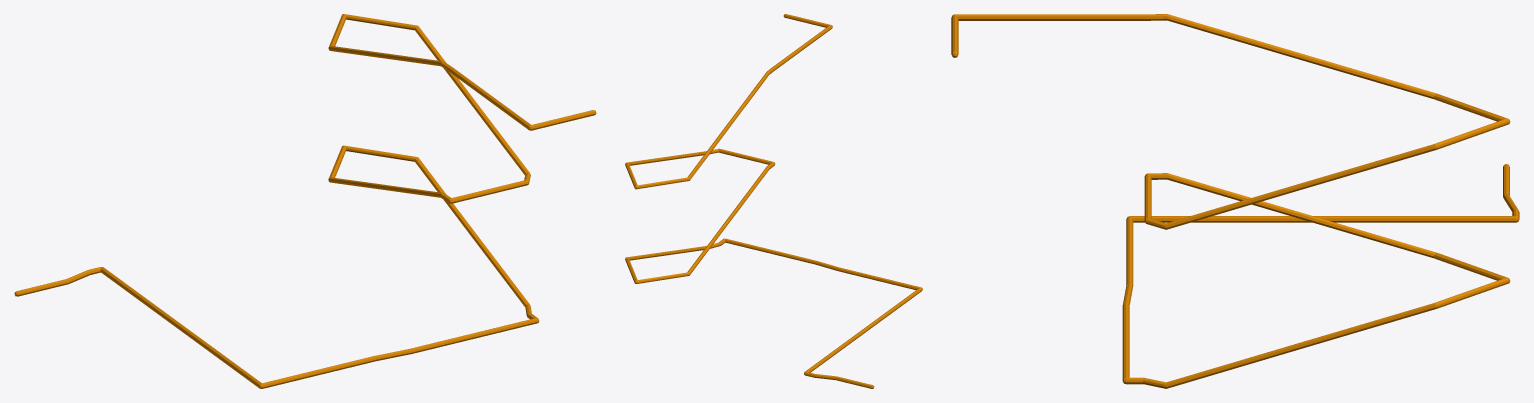
3 views of the same model, side by side, from view 1: azimuth 30°, elevation 25°; view 2: azimuth 150°, elevation 25°; view 3: azimuth 270°, elevation 25° (orthographic). The views are drawn at different scales.
Bounding box in the file's own units: 1492 × 1020 × 1618.
